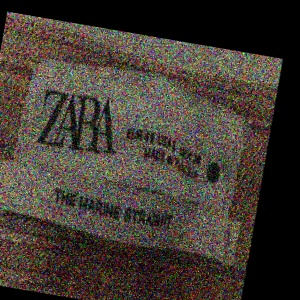zara: (102, 61, 158, 131)
